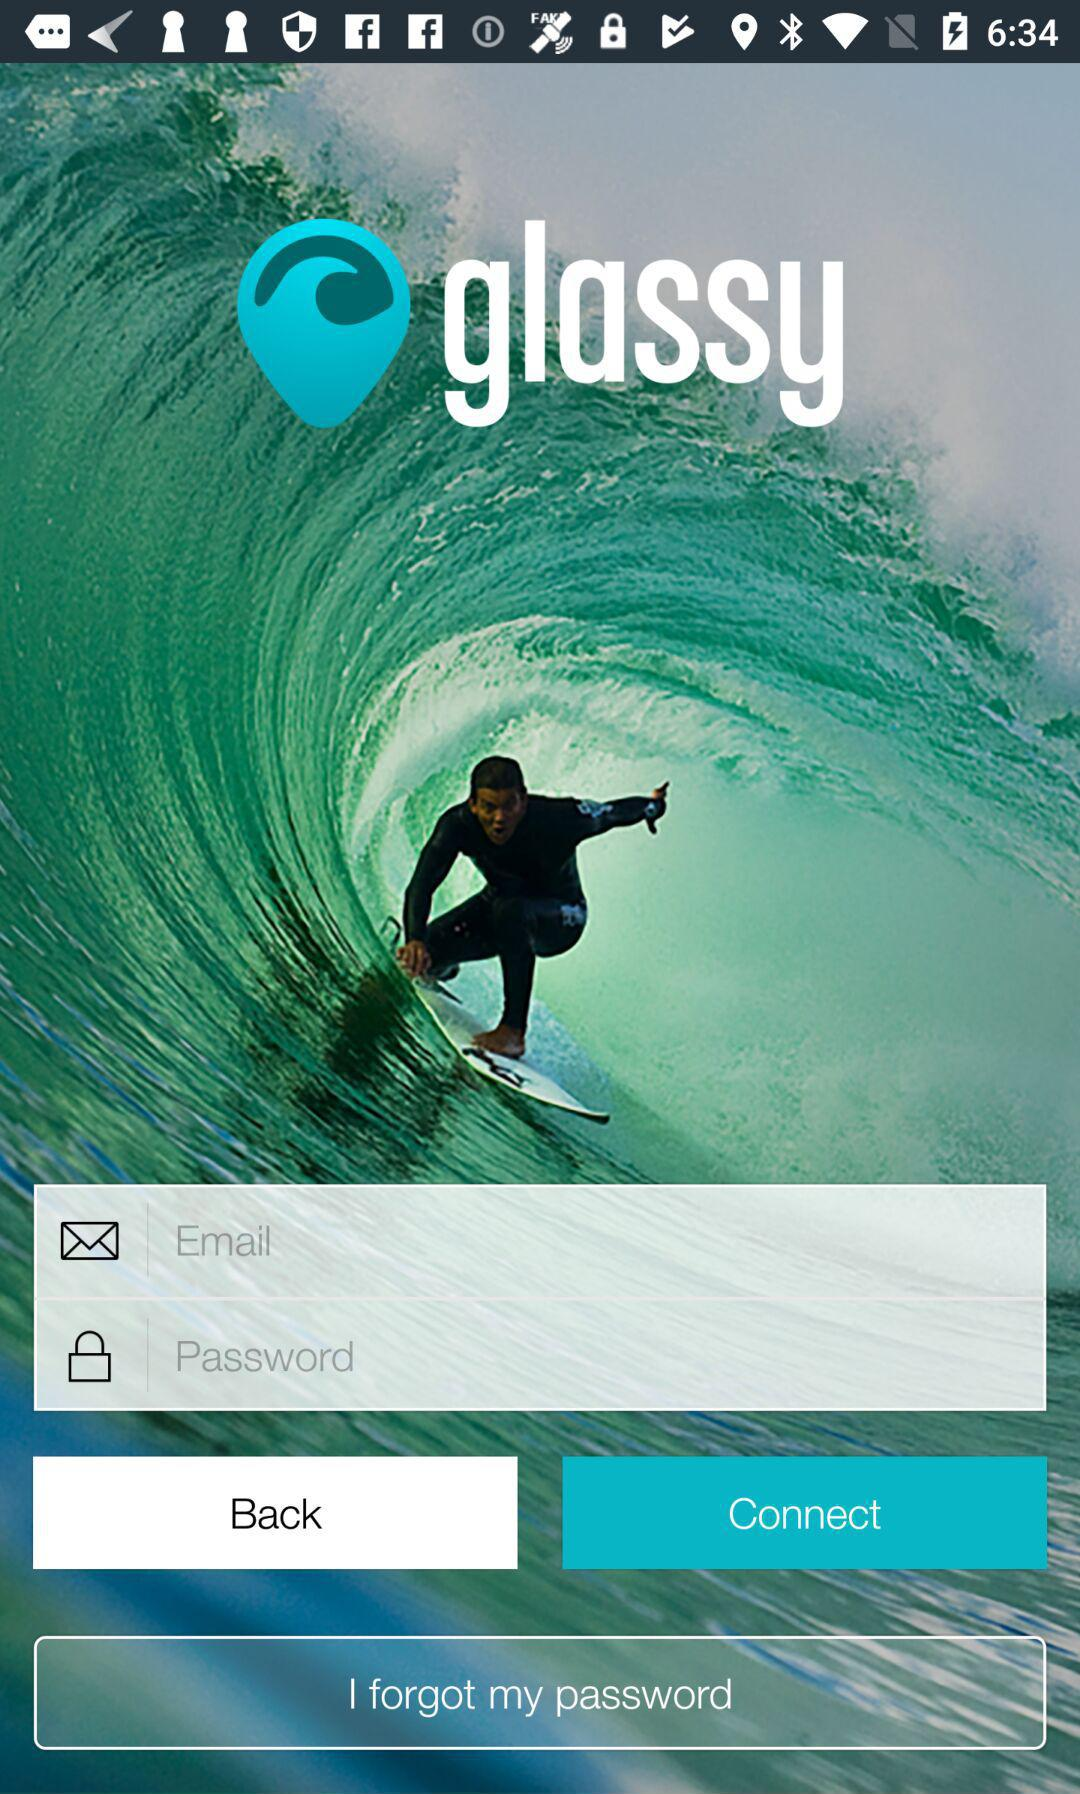BackgroundImage: (1, 64, 1080, 1794)
EditText: (35, 1184, 1047, 1302), (35, 1297, 1047, 1412)
Icon: (69, 1330, 113, 1383), (61, 1222, 120, 1261)
Image: (236, 218, 847, 431)
Text: (177, 1340, 354, 1372), (178, 1225, 272, 1258)
TextButton: (35, 1635, 1047, 1750), (562, 1454, 1048, 1570), (33, 1456, 519, 1570)
UpperTaskBar: (1, 1, 1080, 64)
